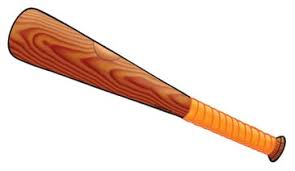baseball bat: (6, 7, 286, 162)
